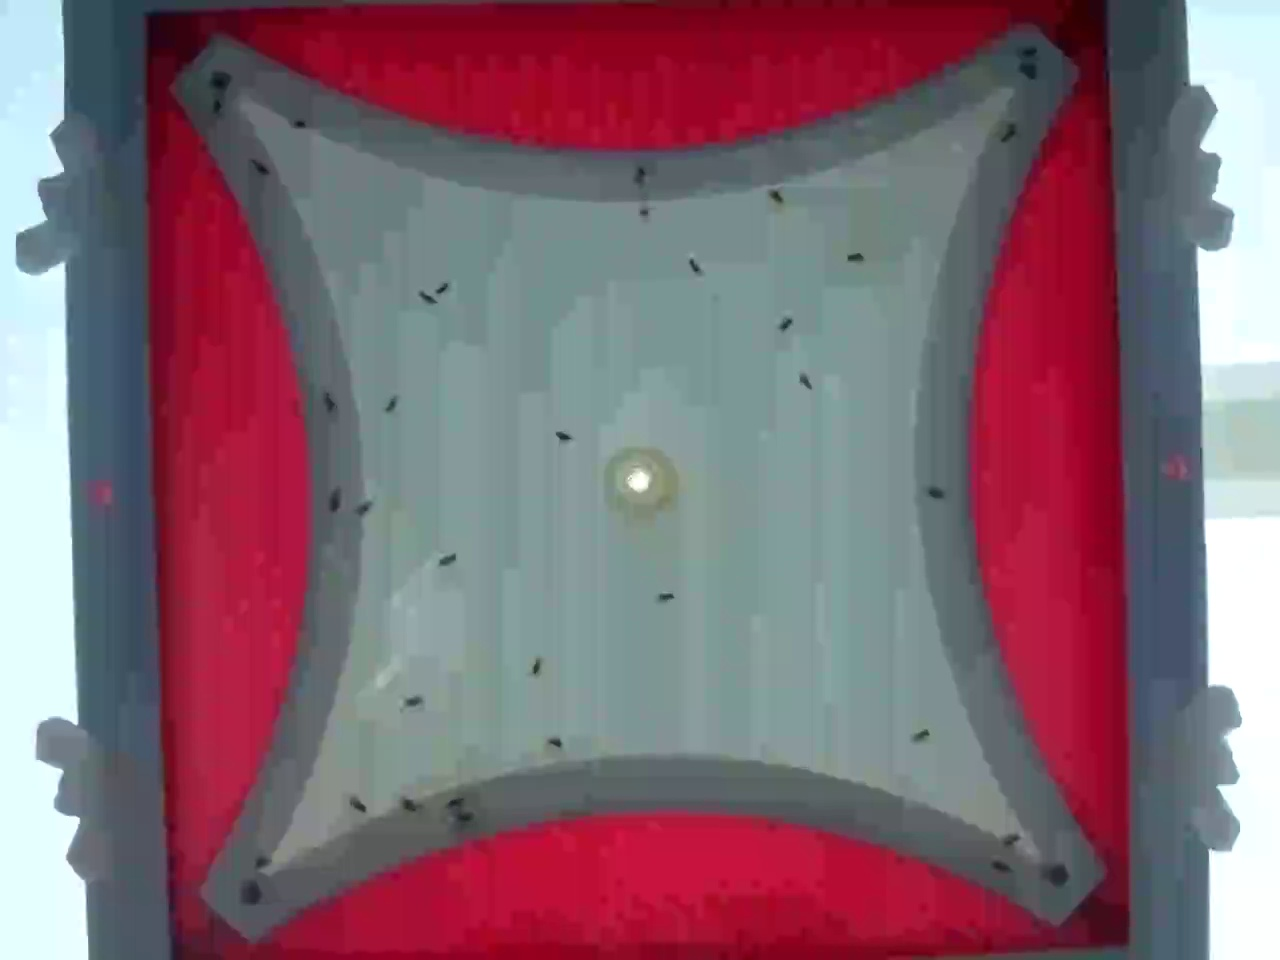fly: (205, 94, 230, 119), (842, 243, 867, 268), (993, 125, 1018, 150), (640, 200, 665, 225), (284, 111, 309, 136), (772, 312, 797, 337), (764, 184, 789, 209), (793, 369, 818, 394), (378, 392, 403, 417), (625, 438, 650, 463), (922, 480, 947, 505), (548, 423, 573, 448), (909, 722, 934, 747), (652, 584, 677, 609), (321, 492, 346, 517), (353, 493, 378, 518), (542, 730, 567, 755), (400, 688, 425, 713), (344, 792, 369, 817), (395, 792, 420, 817), (247, 849, 272, 874), (999, 826, 1024, 851), (987, 854, 1012, 879), (454, 806, 479, 831), (249, 161, 274, 186), (629, 161, 654, 186), (414, 285, 439, 310), (430, 275, 455, 301), (1016, 39, 1041, 64), (682, 255, 707, 280), (315, 386, 340, 411), (523, 655, 548, 680), (436, 546, 461, 571), (437, 791, 462, 816)
